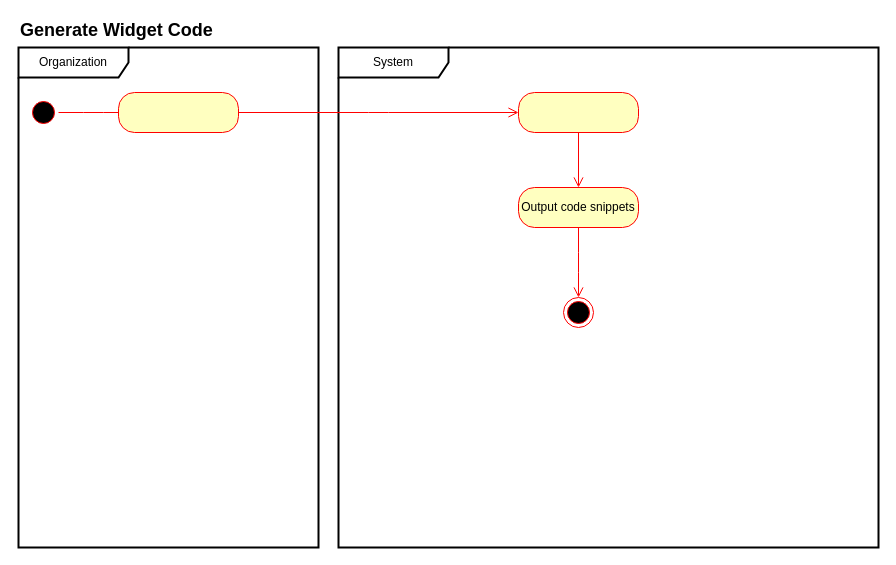
Some shapes in this 896 by 565 pixel diagram are drawn without their labels. The centre of each missing label's shape, as x and y in pixels:
Fills in region details: pixel 178 112
Generate code snippets: pixel 578 112
